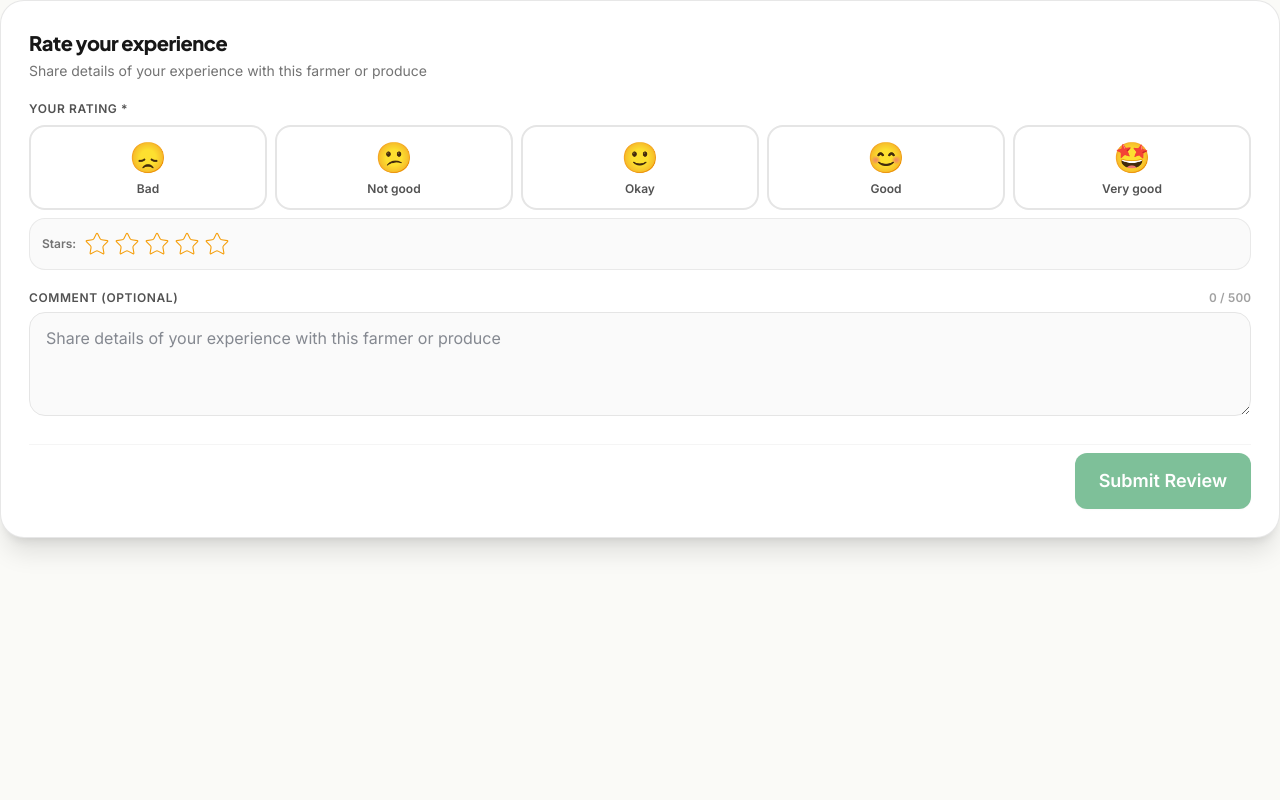
it: Customer & Marketplace UI v2 (Part 3) › 2. ReviewForm Face Row & Stars Parity › selecting face 2 sets rating 2 and syncs with StarRating
What coordinates should you click on to do the following:
click the radio button labelled "😕 Not good"
I would click on:
 (394, 168)
Its box is x1=275 y1=125 x2=513 y2=210.
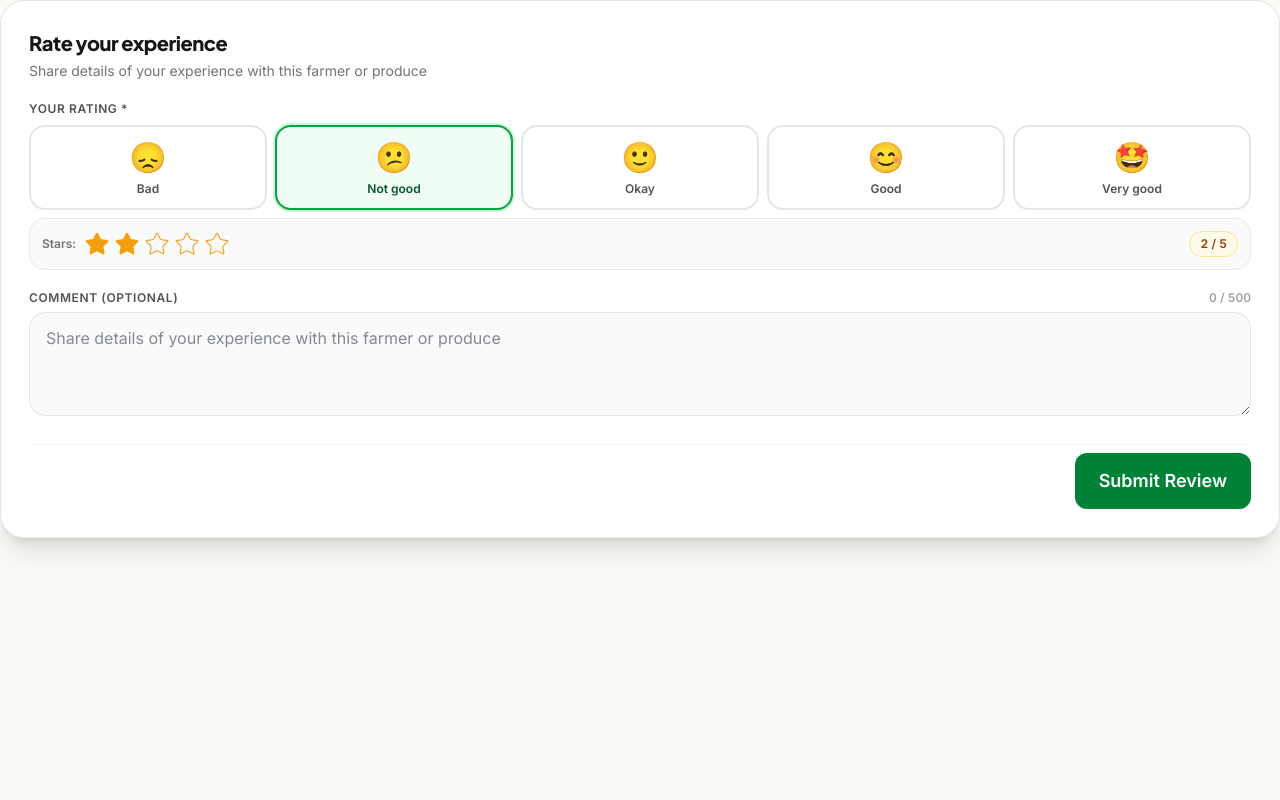
Now the text "2 / 5" is shown, box x1=1190 y1=231 x2=1238 y2=257
